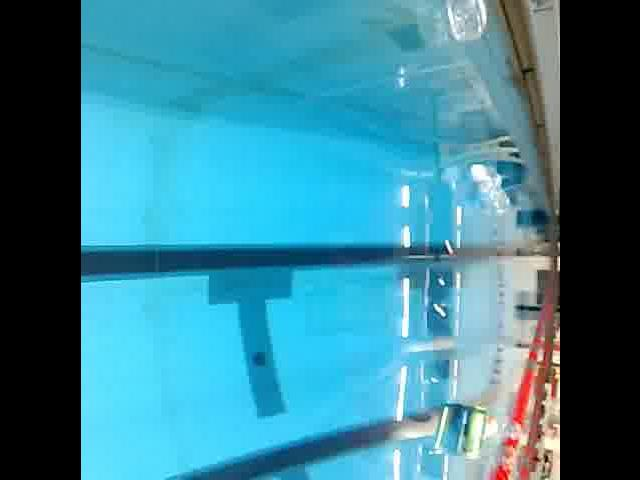Bottle: (462, 156, 512, 218), (443, 0, 491, 52)
Can: (444, 400, 488, 464)
